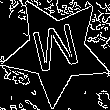M_S: (28, 20, 84, 81)
